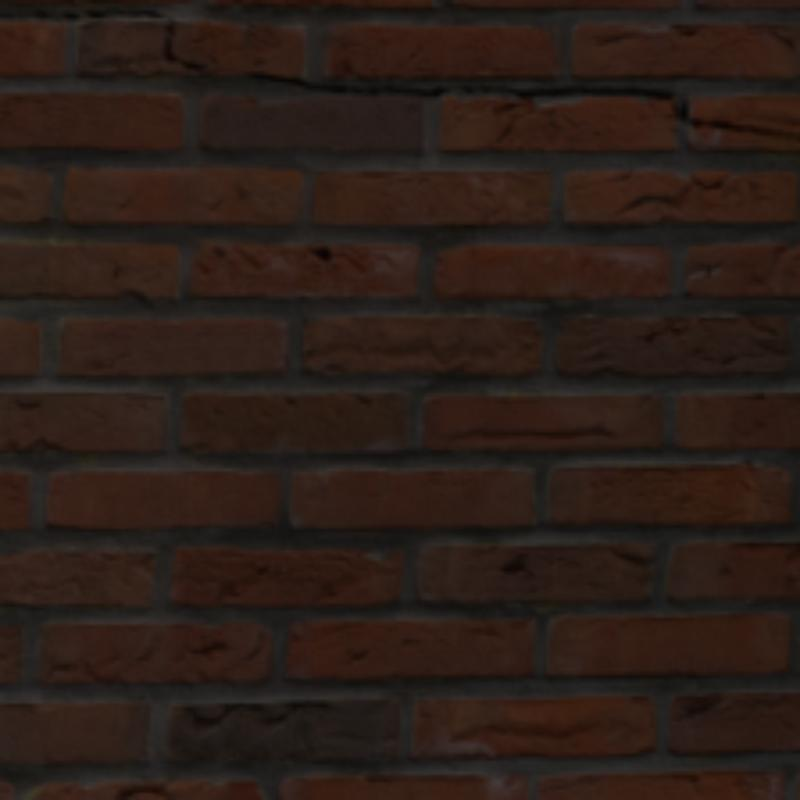pothole: (246, 71, 796, 143), (0, 11, 211, 71)
